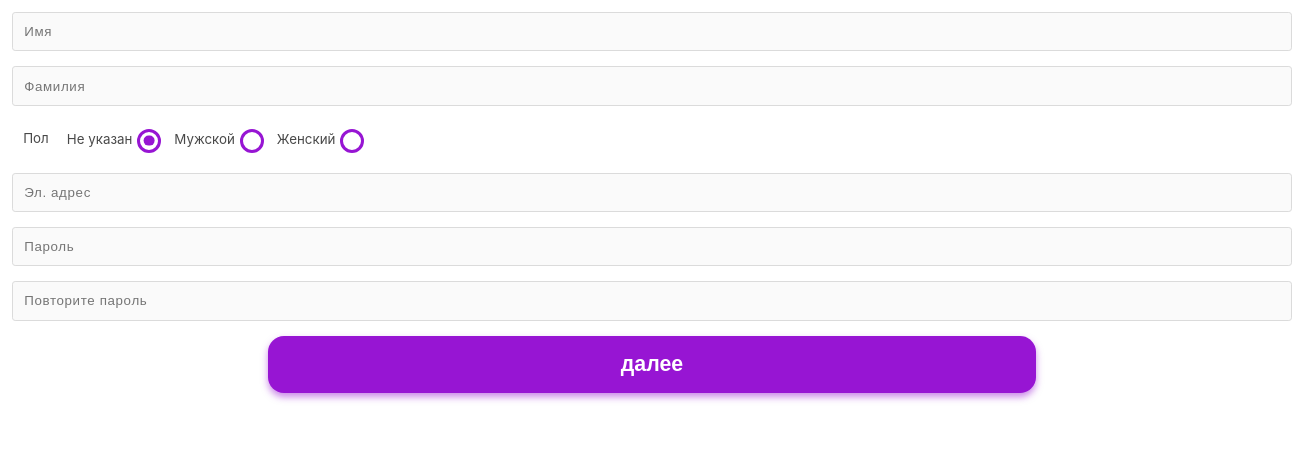
Scenario: RegistrationForm › reports when one of the basic fields is missing
Type "lastName" into the field with placeholder "Фамилия".
click(652, 86); type("lastName")  # box top-left (12, 66), bottom-right (1292, 106)
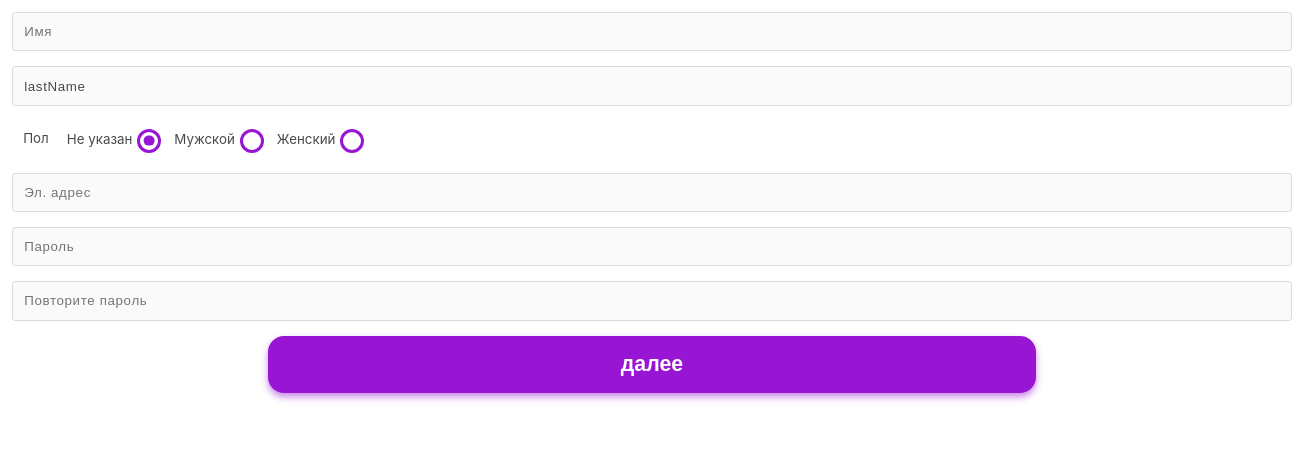
Type "email" into the field with placeholder "Эл. адрес".
click(652, 192); type("email")  # box top-left (12, 172), bottom-right (1292, 212)
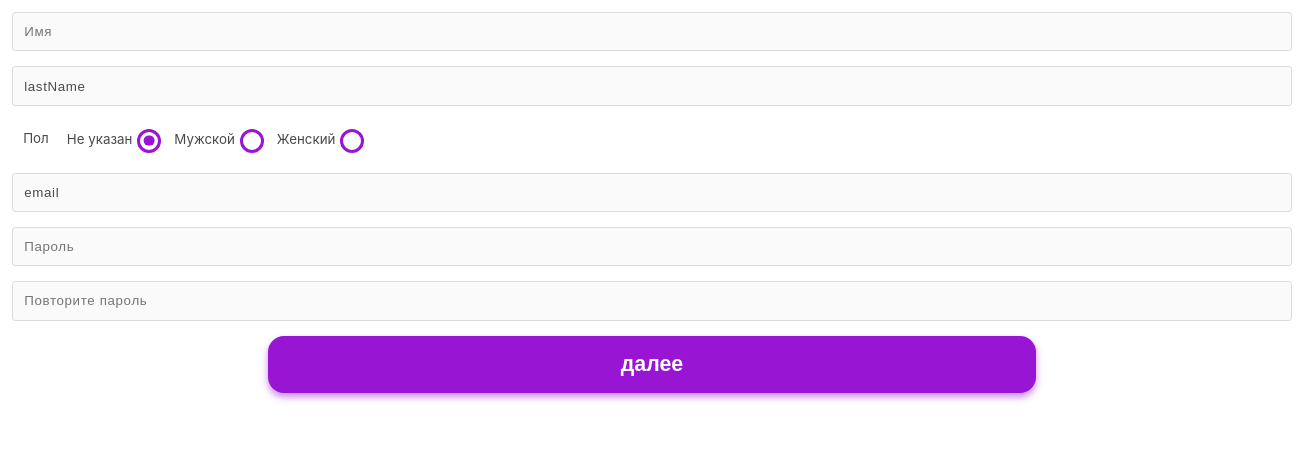
Type "Hunter2!" into the password field with placeholder "Пароль".
click(652, 247); type("Hunter2!")  # box top-left (12, 227), bottom-right (1292, 266)
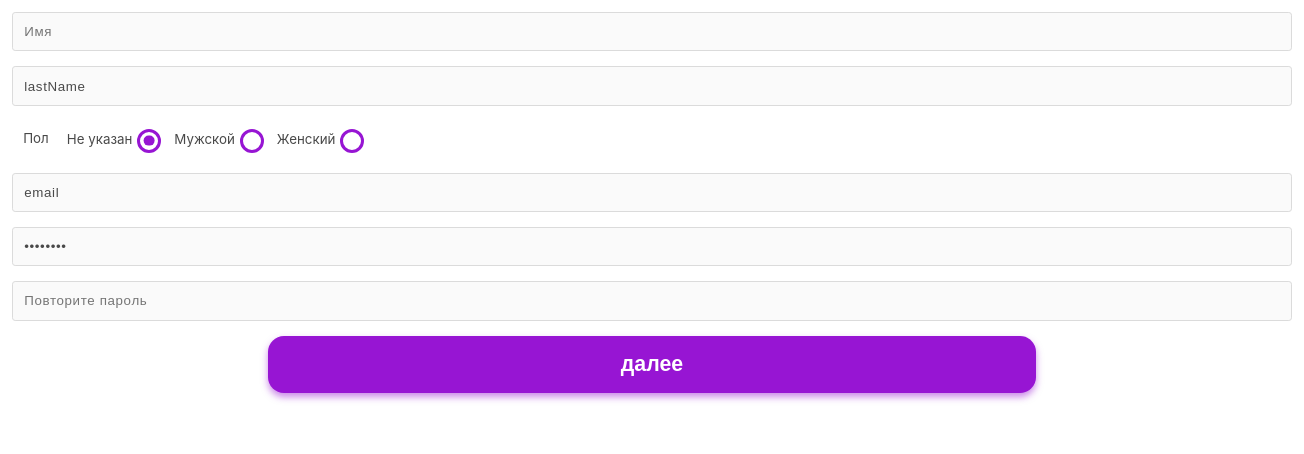
Type "Hunter2!" into the password field with placeholder "Повторите пароль".
click(652, 301); type("Hunter2!")  # box top-left (12, 281), bottom-right (1292, 321)
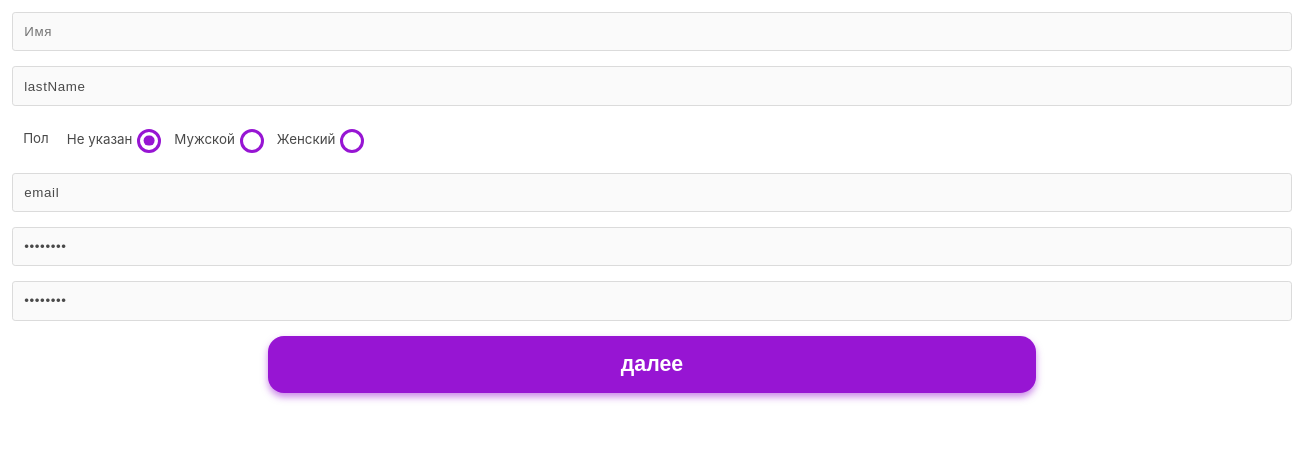
Click the radio button labelled "Мужской".
click(252, 141)  # box top-left (240, 129), bottom-right (264, 153)
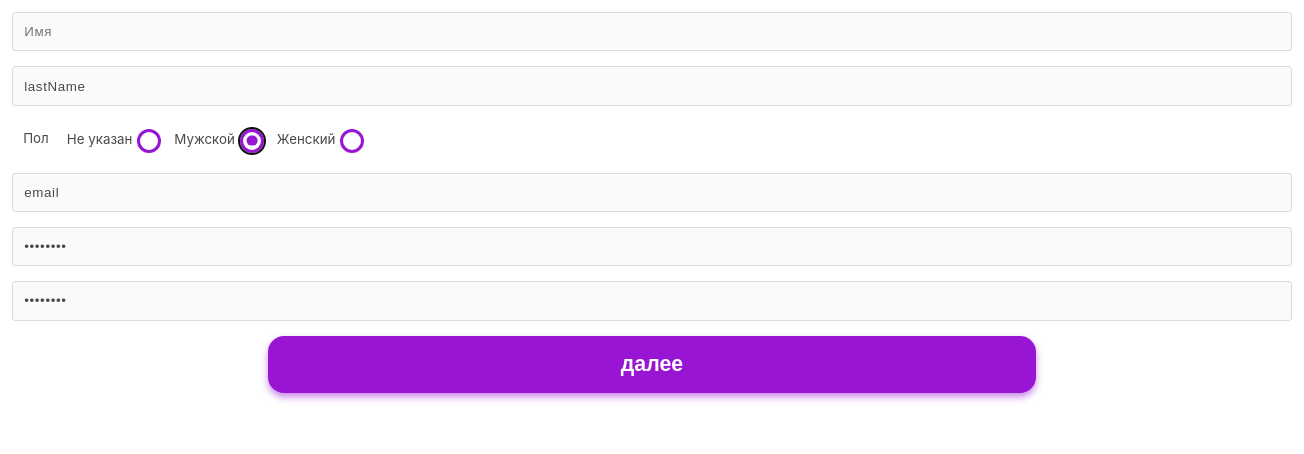
Click the button "далее".
click(652, 364)  # box top-left (268, 336), bottom-right (1036, 393)
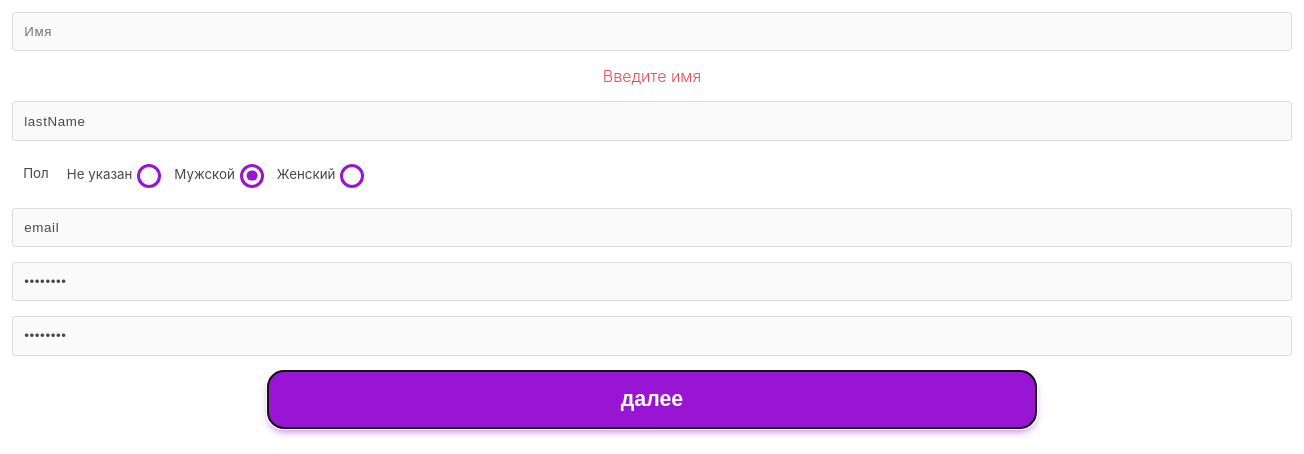
Result: the text "Введите имя" is shown at top-left (603, 66), bottom-right (701, 86)
